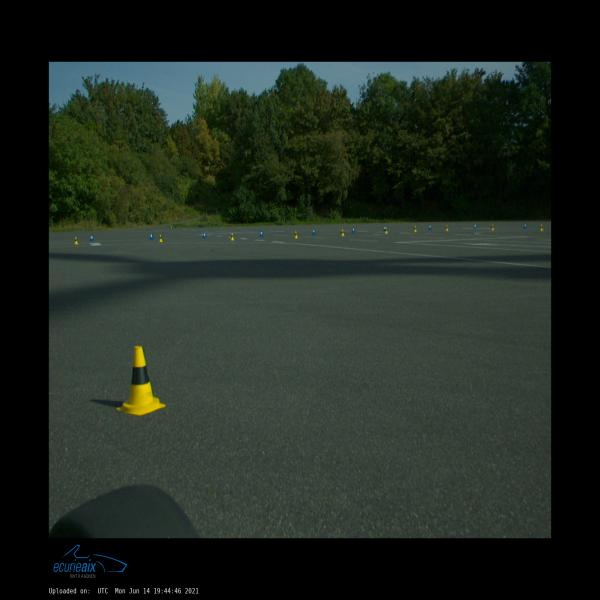blue_cone: (312, 228, 316, 234), (260, 230, 264, 236), (203, 232, 207, 238), (150, 233, 154, 239), (90, 235, 94, 241), (523, 223, 527, 228), (429, 225, 432, 230), (352, 227, 355, 232), (474, 224, 477, 228), (383, 226, 385, 231)
yellow_cone: (117, 346, 166, 415), (158, 234, 163, 242), (340, 229, 345, 236), (230, 233, 235, 240), (74, 237, 79, 244), (540, 224, 544, 231), (384, 227, 388, 234), (294, 231, 298, 238), (490, 224, 494, 230), (445, 224, 449, 230), (413, 226, 417, 232)
